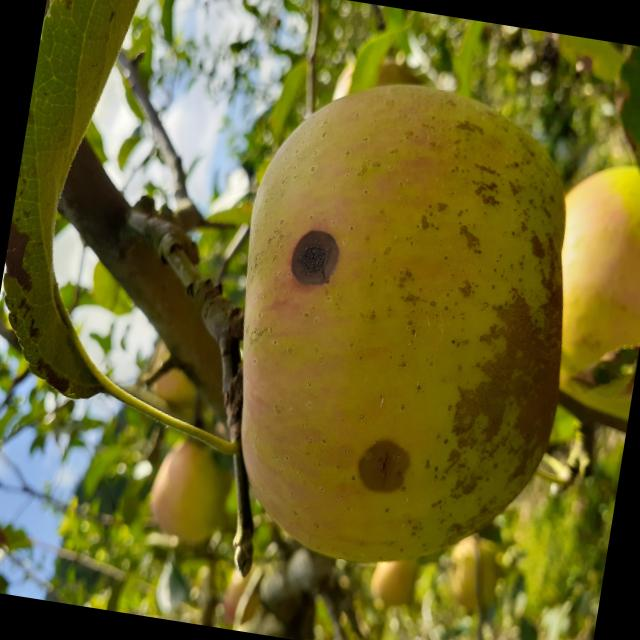rotten: (196, 56, 611, 600)
